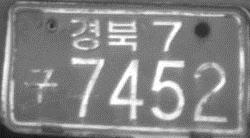2: (193, 60, 230, 126)
4: (107, 56, 145, 120)
5: (150, 57, 186, 122)
7: (67, 54, 106, 121), (149, 19, 183, 53)
경북_O: (69, 18, 138, 53)
구: (23, 65, 59, 106)
